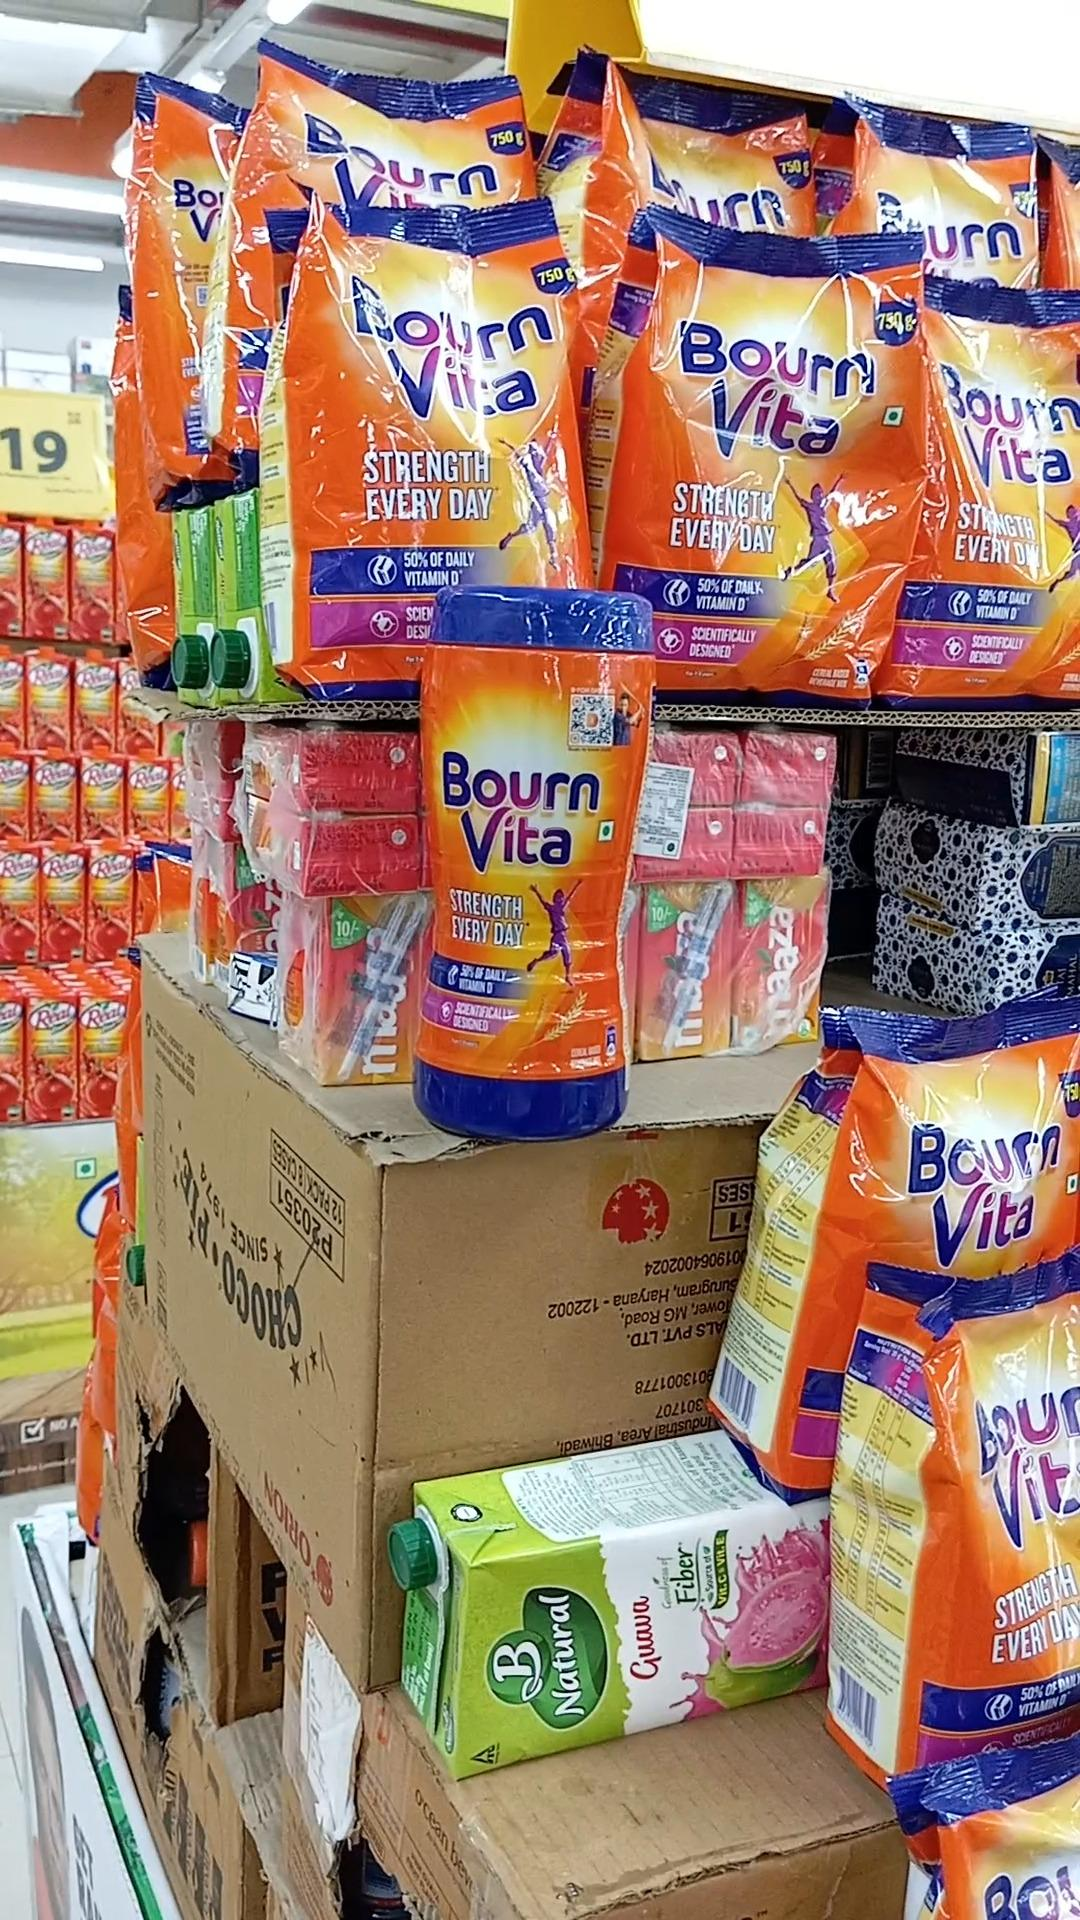COMPLAN_CHOCOLATE_200_GMS_JAR: (426, 582, 636, 1156)
